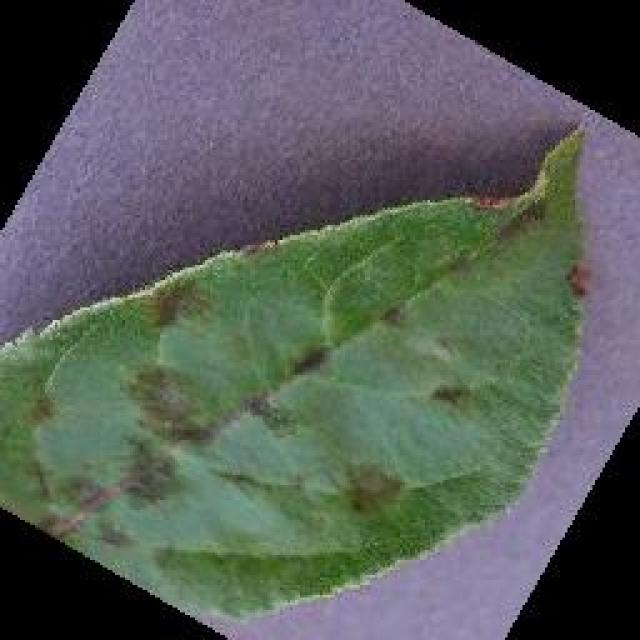apple scab disease: (0, 120, 595, 630)
